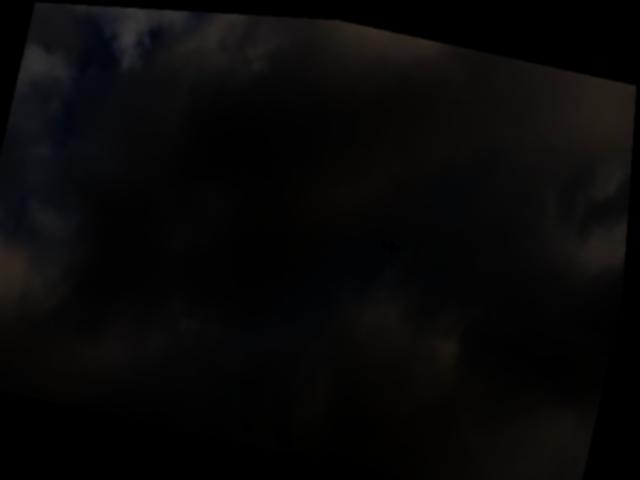uav: (373, 223, 414, 260)
